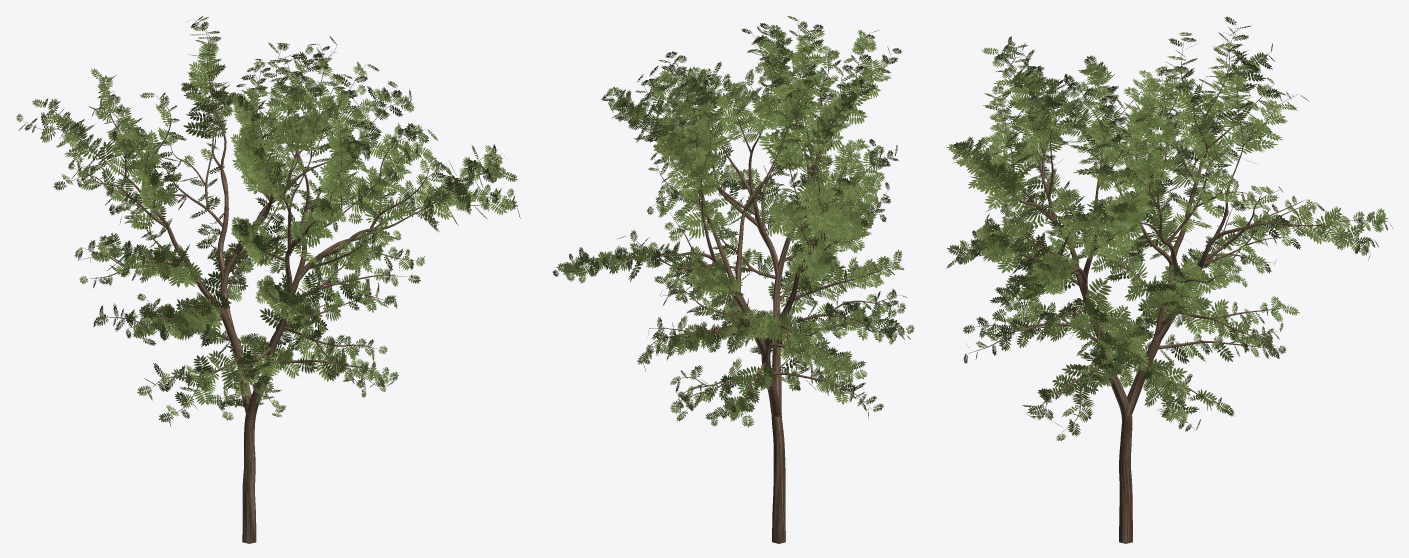
File: Amazonie_Arbre_12.fbx
The picture shows the model from 3 angles, left to right: view 1: azimuth 30°, elevation 25°; view 2: azimuth 150°, elevation 25°; view 3: azimuth 270°, elevation 25°; orthographic projection.
Visible parts, largest first — view 1: Plane.001, tree; view 2: Plane.001, tree; view 3: Plane.001, tree.
Part boxes in pixels (<box>): Plane.001: <box>16,16,520,426</box>; tree: <box>25,19,513,543</box>; Plane.001: <box>553,16,914,427</box>; tree: <box>570,22,905,543</box>; Plane.001: <box>946,16,1392,441</box>; tree: <box>961,28,1388,543</box>.
Bounding box in the file's own units: 781 × 945 × 781.
